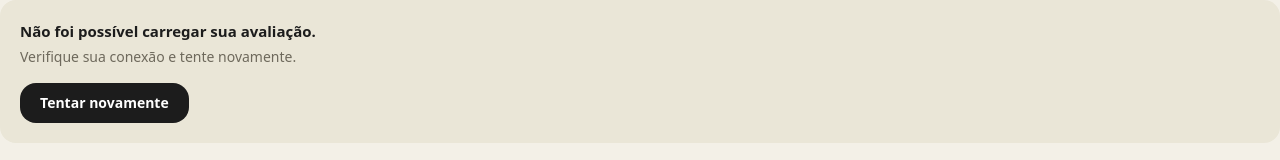
Test: BL05.1 · ReviewSection › exibe alerta com botão de tentar novamente em erro de rede/servidor
This screenshot has width=1280, height=160.
Expected: the text "Não foi possível carregar sua avaliação." is shown, left=20, top=21, right=316, bottom=41
Click the button "Tentar novamente".
click(104, 102)  # box left=20, top=82, right=189, bottom=122
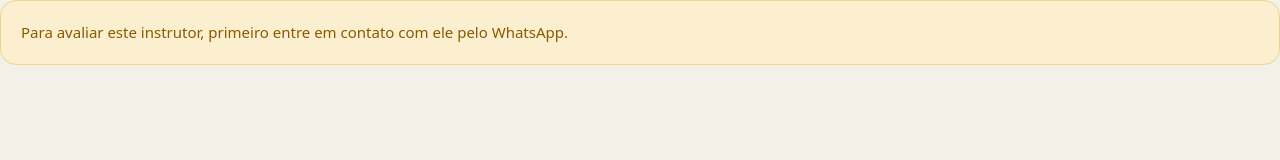
Now the text "Para avaliar este instrutor, primeiro entre em contato com ele pelo WhatsApp." is shown, box left=0, top=0, right=1279, bottom=64
